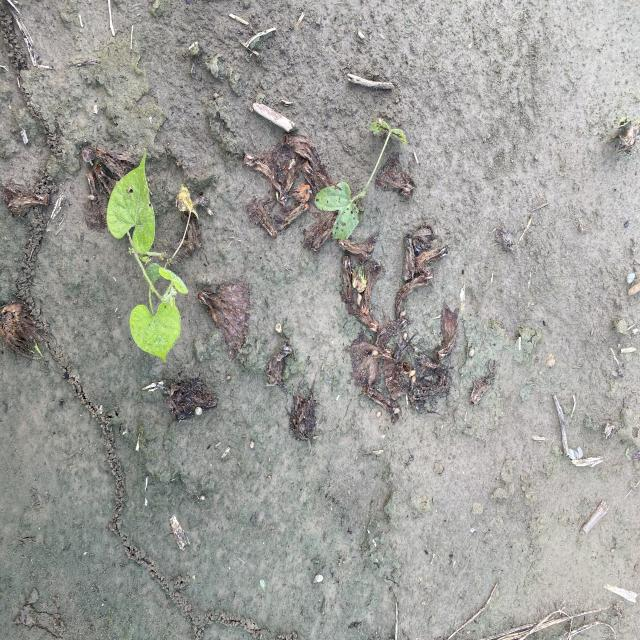MorningGlory: (104, 149, 202, 367), (313, 119, 408, 243)
